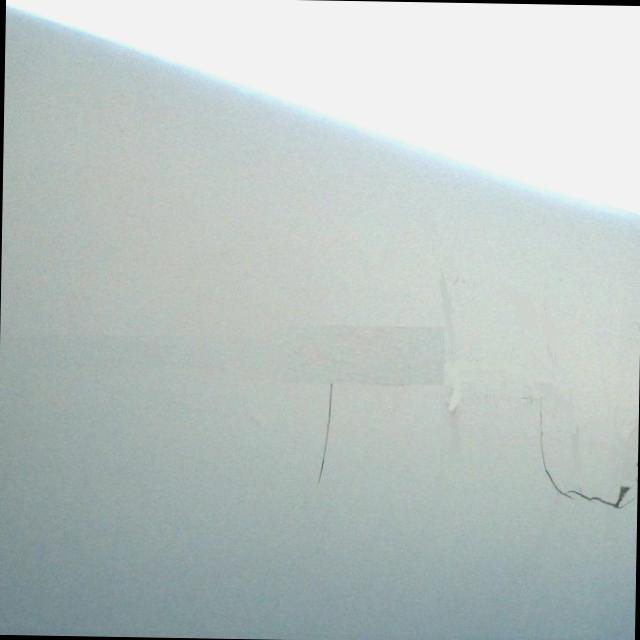crack: (532, 412, 634, 514), (316, 382, 337, 484)
